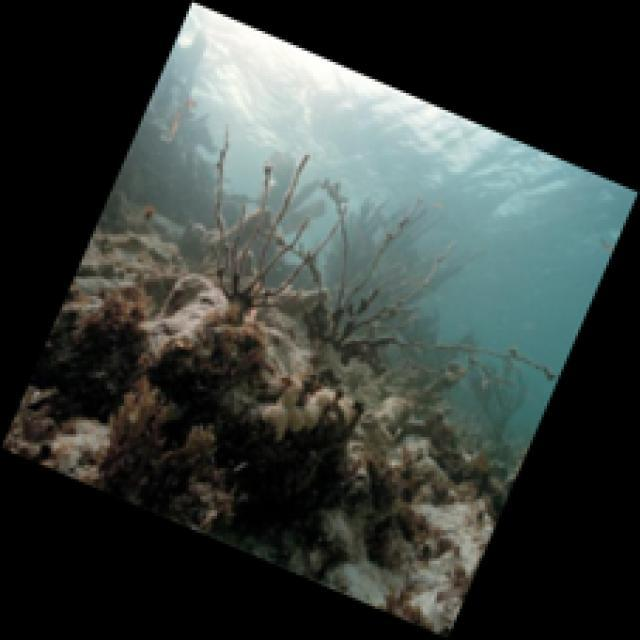Dead Coral: (44, 334, 344, 524)
